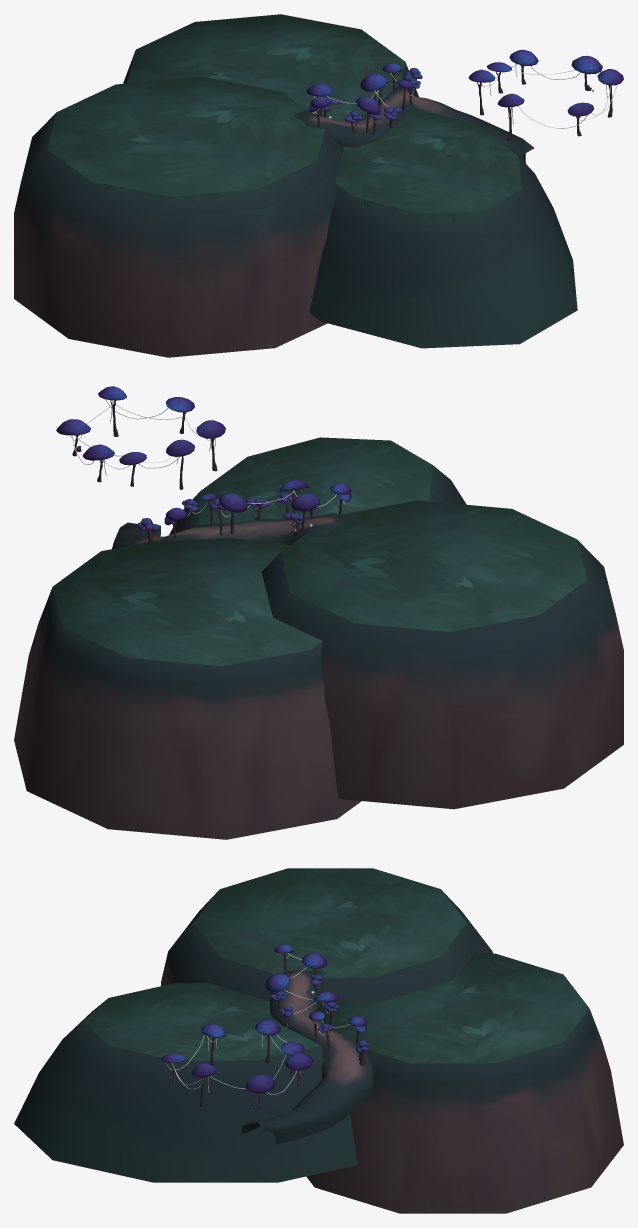
File: Path_Ground.fbx
The picture shows the model from 3 angles, top to bottom: view 1: azimuth 30°, elevation 25°; view 2: azimuth 150°, elevation 25°; view 3: azimuth 270°, elevation 25°; orthographic projection. The views are drawn at different scales.
Visible parts, largest first — view 1: Path_Ground1, Path_Ground3, Path_Ground2, Path_Ground0, Meadow_tree_01; view 2: Path_Ground1, Path_Ground2, Path_Ground3, Path_Ground0; view 3: Path_Ground2, Path_Ground3, Path_Ground1, Path_Ground0.
Boxes of the visible parts, x1,y1,x2,y2 form: Path_Ground1: [14, 76, 344, 357]; Path_Ground3: [309, 107, 577, 348]; Path_Ground2: [123, 14, 418, 122]; Path_Ground0: [294, 86, 534, 163]; Meadow_tree_01: [571, 55, 602, 90]; Path_Ground1: [261, 500, 623, 809]; Path_Ground2: [14, 538, 361, 839]; Path_Ground3: [169, 437, 466, 539]; Path_Ground0: [112, 513, 344, 548]; Path_Ground2: [306, 953, 623, 1213]; Path_Ground3: [14, 983, 357, 1182]; Path_Ground1: [161, 868, 492, 1004]; Path_Ground0: [241, 970, 374, 1144].
Bounding box in the file's own units: 450 × 158 × 475.
